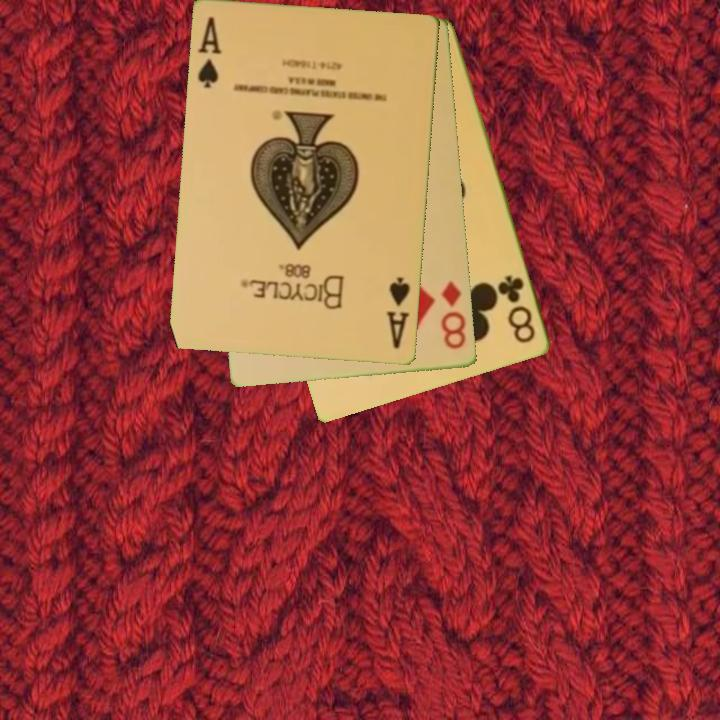8c: (495, 272, 539, 347)
8d: (438, 277, 469, 353)
As: (383, 274, 413, 353), (195, 13, 225, 92)
